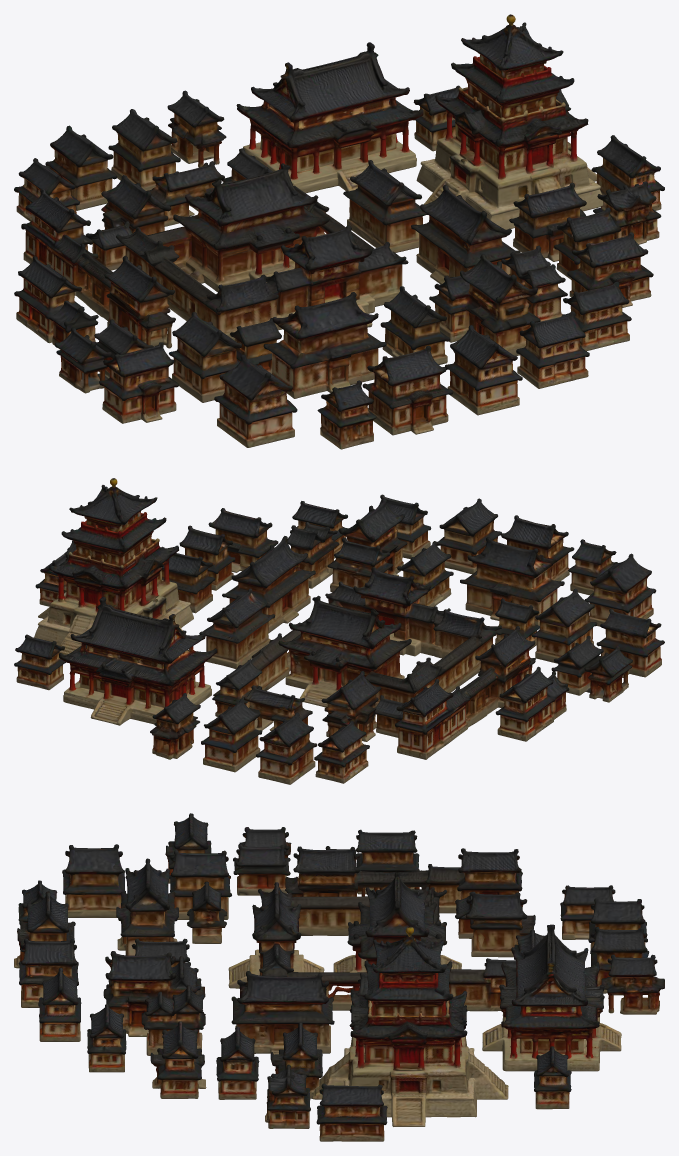
The model's file is Enlightenment Town (East Asian).fbx.
The picture shows the model from 3 angles, top to bottom: view 1: azimuth 30°, elevation 25°; view 2: azimuth 150°, elevation 25°; view 3: azimuth 270°, elevation 25°; orthographic projection. The views are drawn at different scales.
Visible parts, largest first — view 1: tripo_node_e1d06936; view 2: tripo_node_e1d06936; view 3: tripo_node_e1d06936.
Boxes of the visible parts, x1,y1,x2,y2 form: tripo_node_e1d06936: (14,14,664,449); tripo_node_e1d06936: (14,478,664,784); tripo_node_e1d06936: (14,813,664,1141).
Size of the model in its own units: 1 by 0.2954 by 0.9736.
